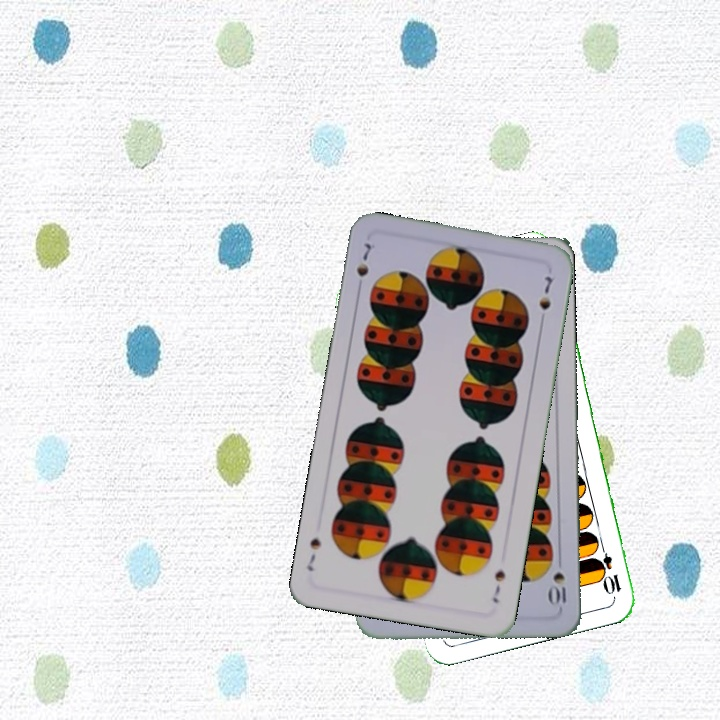E10: (594, 538, 624, 597)
S10: (547, 552, 568, 608)
S7: (352, 239, 374, 295), (488, 566, 508, 606)
